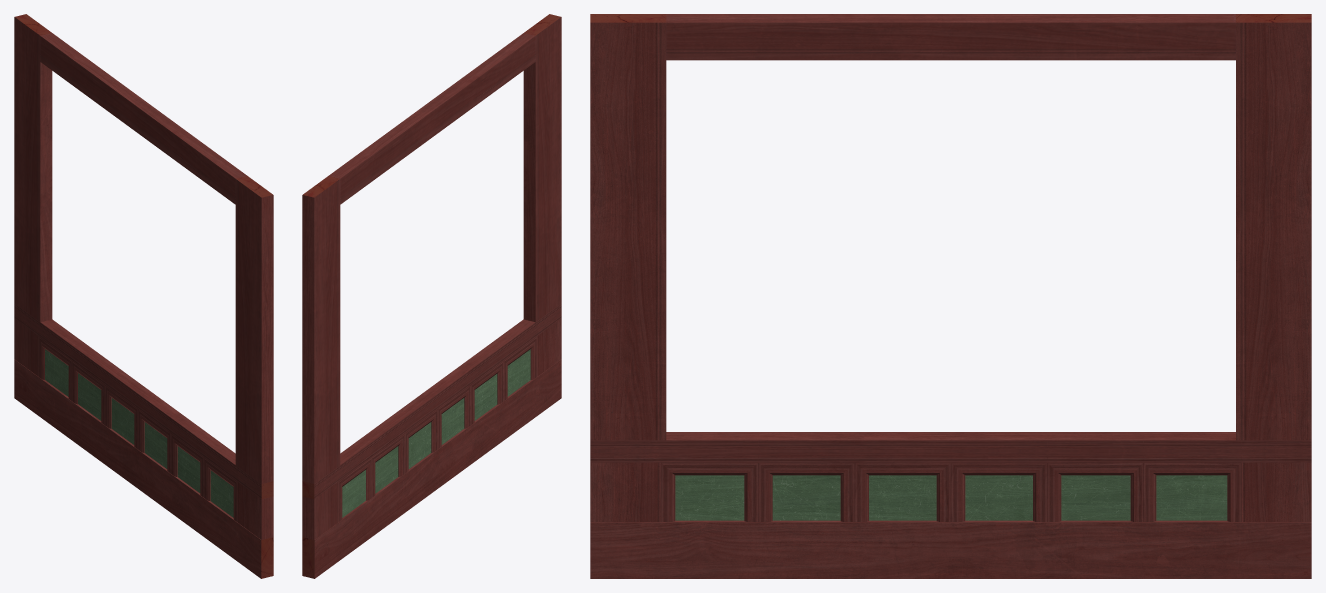
The model's file is SM_WindowTrim03E.fbx.
The picture shows the model from 3 angles, left to right: view 1: azimuth 30°, elevation 25°; view 2: azimuth 150°, elevation 25°; view 3: azimuth 270°, elevation 25°; orthographic projection. The views are drawn at different scales.
Visible parts, largest first — view 1: SM_WindowTrim03E; view 2: SM_WindowTrim03E; view 3: SM_WindowTrim03E.
Boxes of the visible parts, x1,y1,x2,y2 form: SM_WindowTrim03E: (14,14,273,578); SM_WindowTrim03E: (302,14,561,578); SM_WindowTrim03E: (590,14,1311,578).
Size of the model in its own units: 12.61 by 430 by 366.
